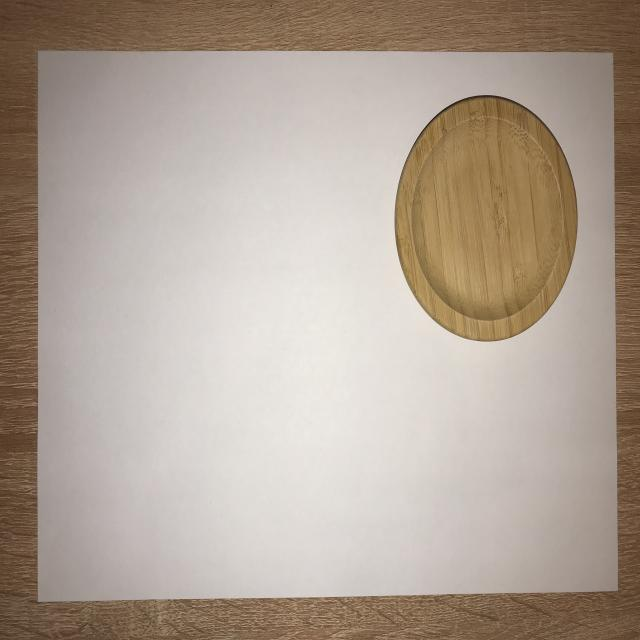cup_holder: (388, 89, 586, 347)
